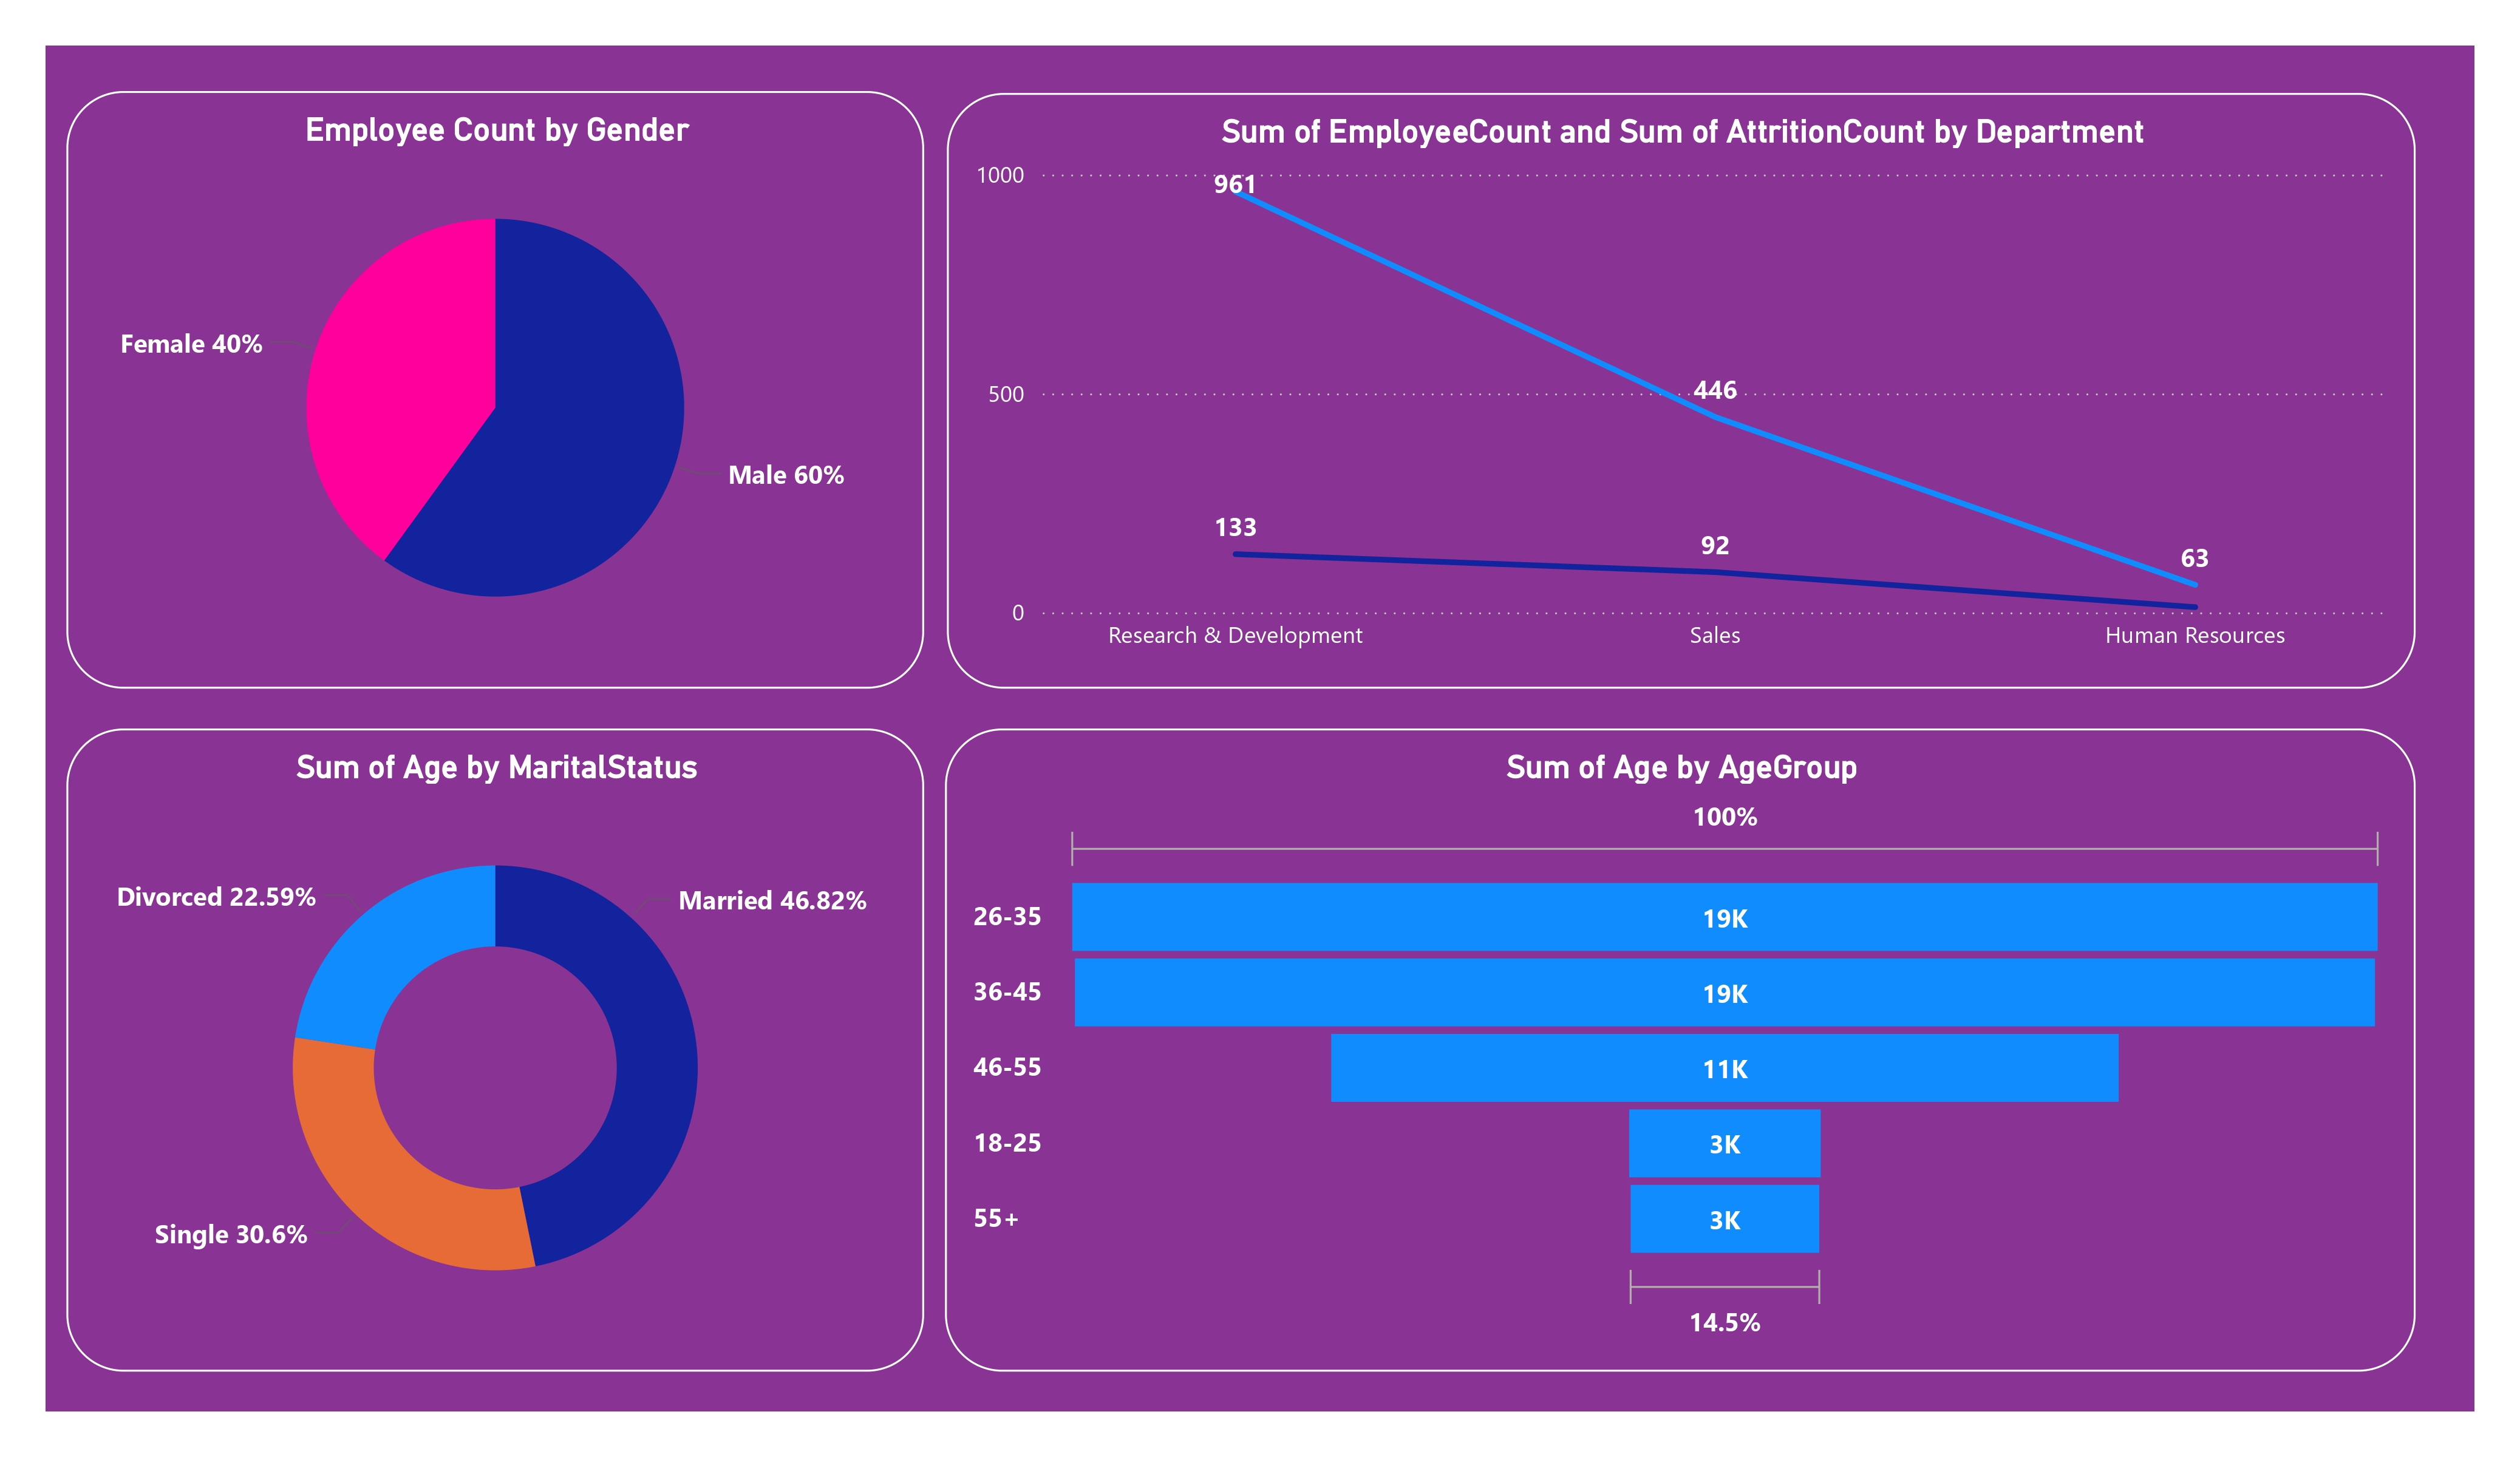

This screenshot's page, from the dashboard's own definition file:
{"tool":"powerbi","page":{"name":"Page 2","canvas":[1280,720],"ordinal":1},"visuals":[{"type":"pieChart","title":"Employee Count by Gender","fields":{"Category":["HR_Analytics.Gender"],"Y":["Sum(HR_Analytics.EmployeeCount)"]},"box":[11.2,23.8,451.2,315],"z":1},{"type":"donutChart","fields":{"Category":["HR_Analytics.MaritalStatus"],"Y":["Sum(HR_Analytics.Age)"]},"box":[11.2,360,451.2,338.8],"z":2},{"type":"lineChart","fields":{"Category":["HR_Analytics.Department"],"Y":["Sum(HR_Analytics.EmployeeCount)","Sum(HR_Analytics.AttritionCount)"]},"box":[475,25,773.8,313.8],"z":3},{"type":"funnel","fields":{"Category":["HR_Analytics.AgeGroup"],"Y":["Sum(HR_Analytics.Age)"]},"box":[473.8,360,775,338.8],"z":4}]}

Visuals, with their boxes in screenshot pixels (x1, y1, x2, y2):
"Employee Count by Gender" pieChart: bbox=[43, 41, 950, 675]
donutChart - HR_Analytics.MaritalStatus x Sum(HR_Analytics.Age): bbox=[43, 718, 950, 1400]
lineChart - HR_Analytics.Department x Sum(HR_Analytics.EmployeeCount): bbox=[976, 44, 2519, 675]
funnel - HR_Analytics.AgeGroup x Sum(HR_Analytics.Age): bbox=[973, 718, 2519, 1400]
